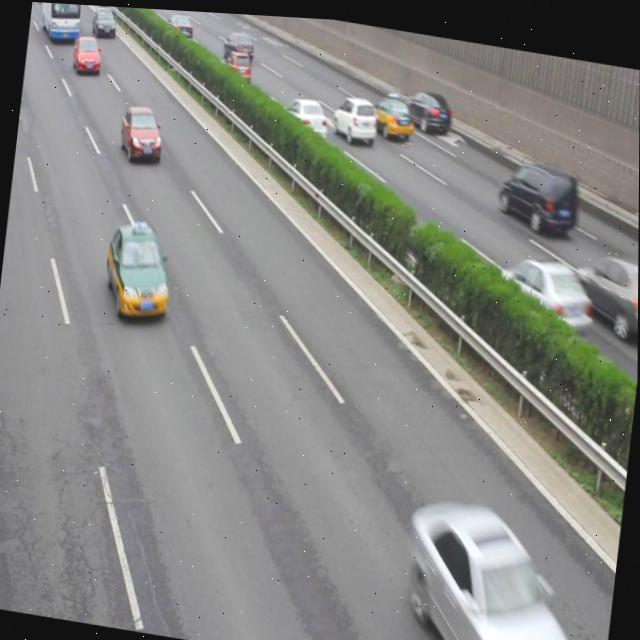car: (396, 492, 587, 640), (491, 246, 596, 329), (101, 216, 177, 323), (568, 243, 639, 326), (117, 100, 166, 164), (331, 90, 379, 141), (368, 87, 414, 137), (403, 84, 452, 130), (281, 90, 329, 135), (70, 31, 102, 74), (221, 28, 253, 60), (90, 4, 118, 38), (163, 8, 193, 39), (224, 45, 252, 77)
truck: (494, 151, 581, 231)
van: (33, 2, 84, 41)
